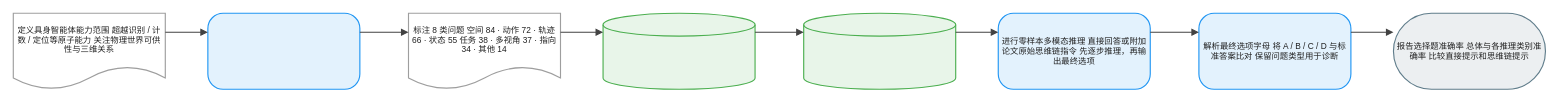
Some shapes in this 1560 by 103 pixel diagram are drawn without their labels. Here are the shapes that lost their labels. From the top down, the box of each, then its label:
(207, 12, 360, 90): 策展多模态 VQA 题目 一张或多张图像与文本交错输入 四选一问题，答案为 A / B / C / D
(602, 12, 755, 90): 保留单图与多图推理 共 400 题 · 28% 为多图题 跨帧物体配准与概念对应
(803, 12, 956, 90): 序列化 ERQA 公开版本 TFRecord：question · image/encoded · answer 问题类型 · 视觉索引 · CC BY 4.0
